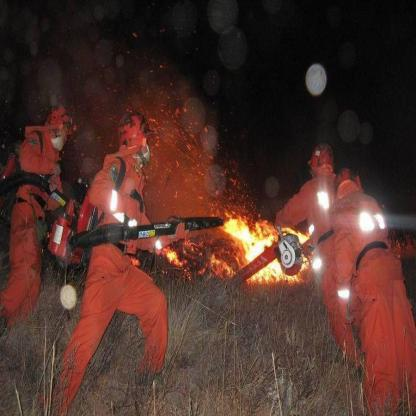fire: (163, 192, 314, 287)
other: (105, 183, 143, 228), (352, 208, 388, 235), (317, 189, 332, 213)
